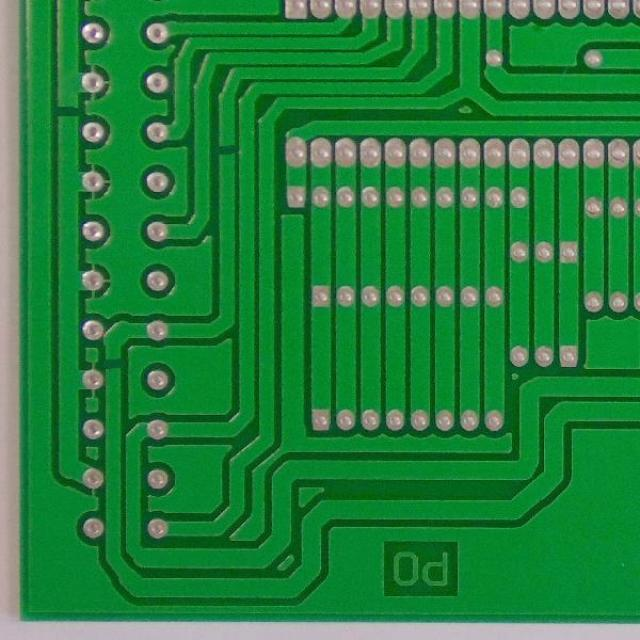open_circuit: (52, 98, 88, 124), (212, 139, 238, 162), (104, 352, 125, 377)
